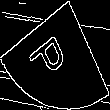P_NE: (32, 26, 78, 84)
